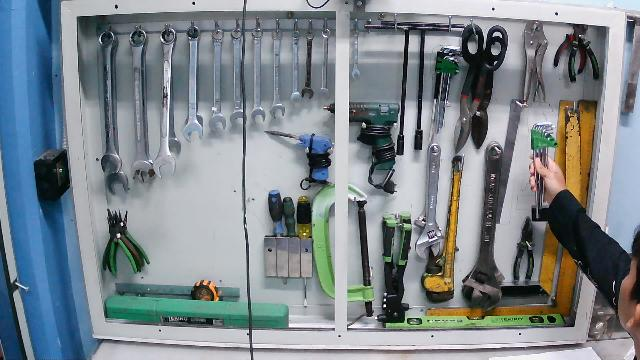kunci_l_bintang: (525, 119, 560, 220)
